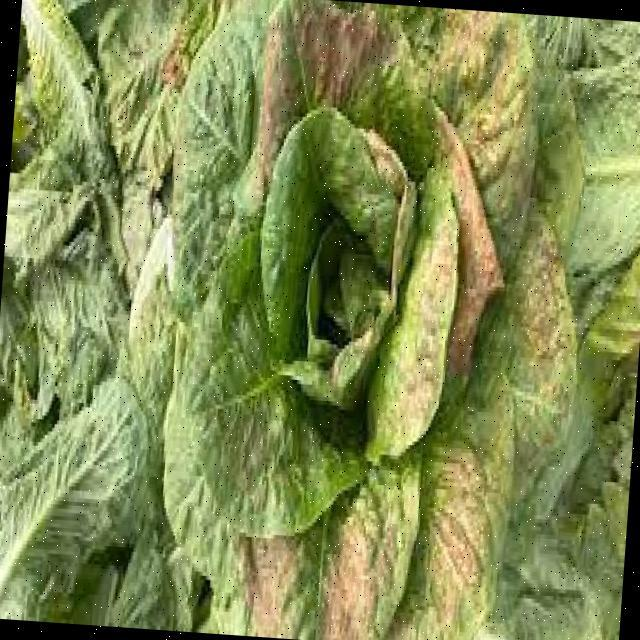Lettuce Mosaic Virus: (177, 23, 540, 579)
